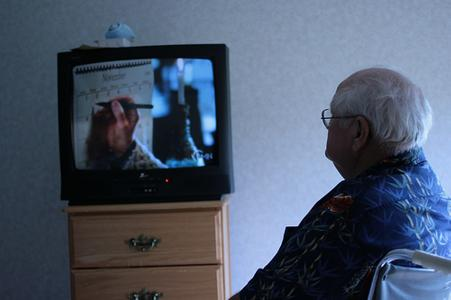person: (231, 68, 450, 299)
